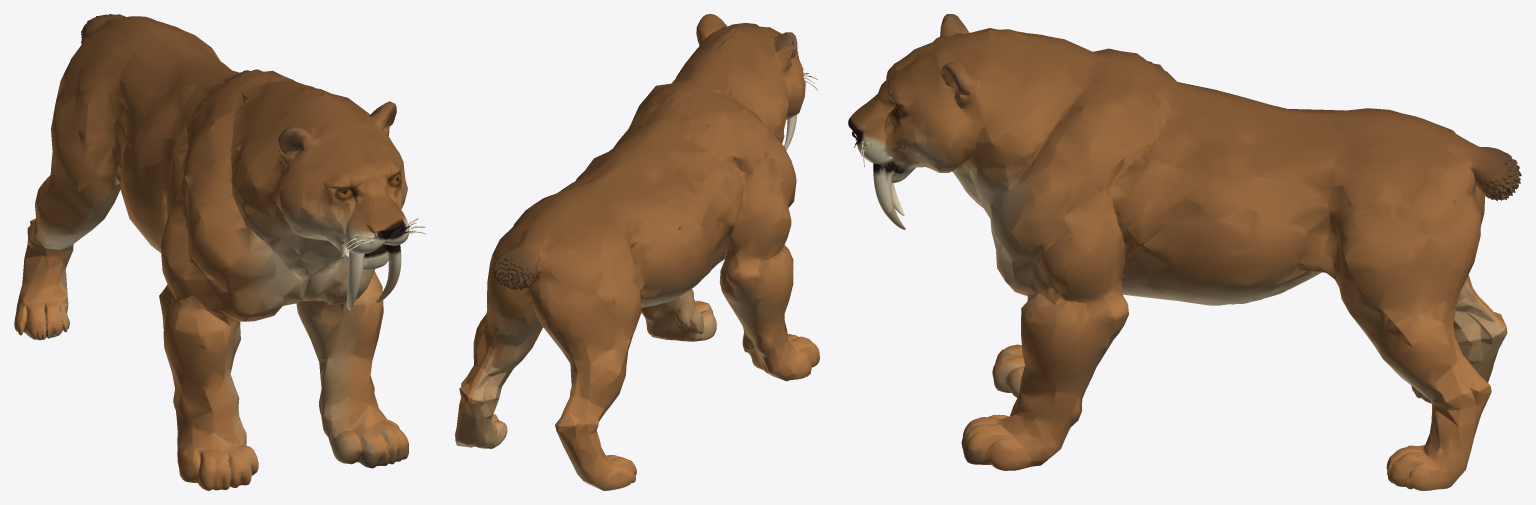
3 renders of one model, left to right at view 1: azimuth 30°, elevation 25°; view 2: azimuth 150°, elevation 25°; view 3: azimuth 270°, elevation 25°, orthographic. The views are drawn at different scales.
Parts seen in each view (by area): view 1: Smilodon_populator; view 2: Smilodon_populator; view 3: Smilodon_populator.
Part boxes in pixels (x1,y1,x2,y2): Smilodon_populator: (14,14,426,490); Smilodon_populator: (455,14,819,490); Smilodon_populator: (848,14,1521,490).
Bounding box in the file's own units: 0.3535 × 0.5184 × 0.8.
Materials: 1 (1 with a texture image).
